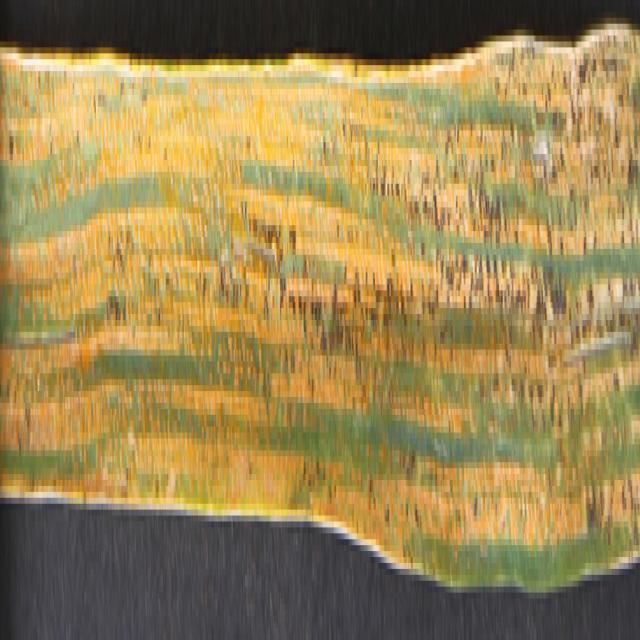leaf rust: (1, 47, 640, 563)
